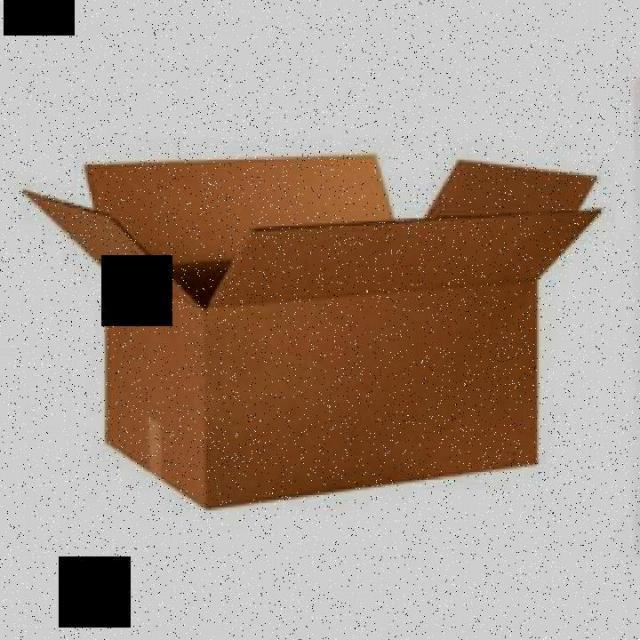box: (15, 132, 613, 522)
